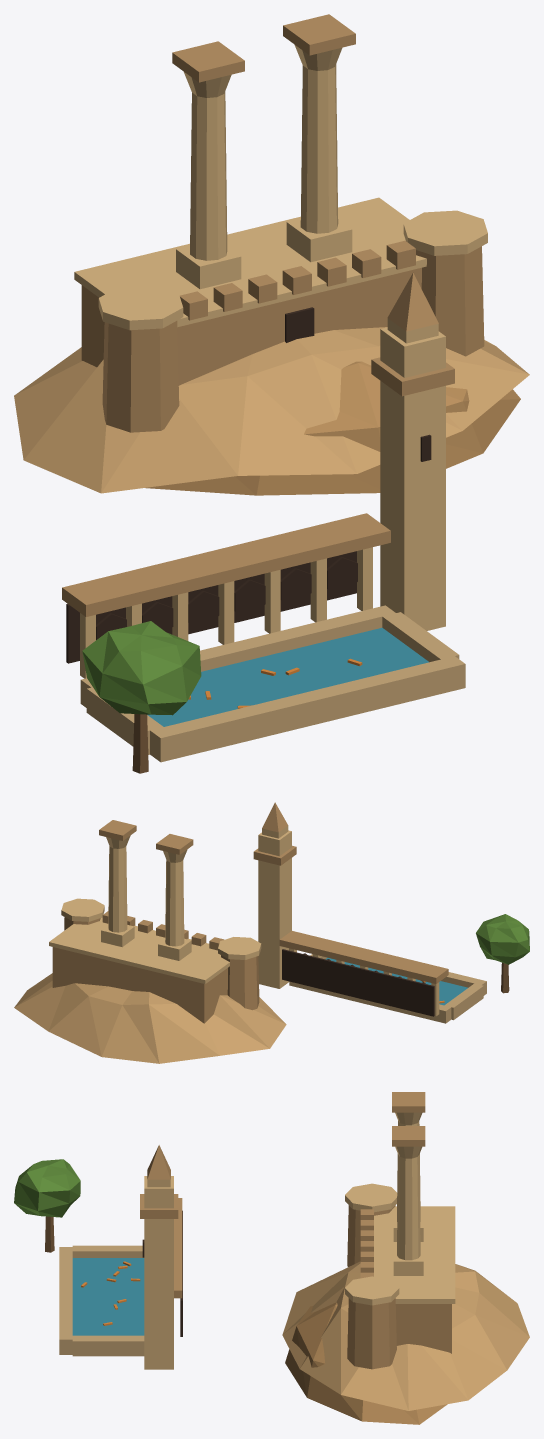
The model's file is urfa.glb.
3 renders of one model, top to bottom at view 1: azimuth 30°, elevation 25°; view 2: azimuth 150°, elevation 25°; view 3: azimuth 270°, elevation 25°, orthographic. The views are drawn at different scales.
Visible parts, largest first — view 1: kale, balikligol; view 2: kale, balikligol; view 3: kale, balikligol.
Boxes of the visible parts, x1=… form: kale: x1=14, y1=14, x2=529, y2=495; balikligol: x1=62, y1=273, x2=465, y2=773; kale: x1=14, y1=820, x2=286, y2=1063; balikligol: x1=253, y1=802, x2=529, y2=1023; kale: x1=282, y1=1092, x2=529, y2=1424; balikligol: x1=14, y1=1145, x2=182, y2=1369.
Bounding box in the file's own units: 14.89 × 8.71 × 15.5.
